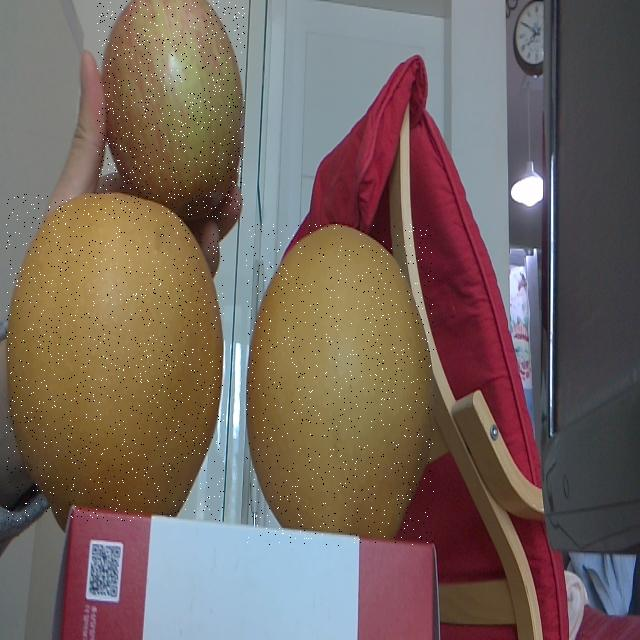apple: (97, 1, 245, 219)
pear: (6, 194, 224, 521), (246, 224, 434, 546)
